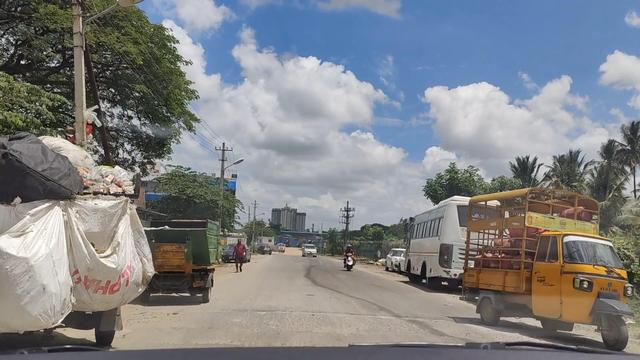HMV: (5, 128, 150, 360), (467, 191, 640, 355)
RoadDamages: (225, 307, 430, 347)
